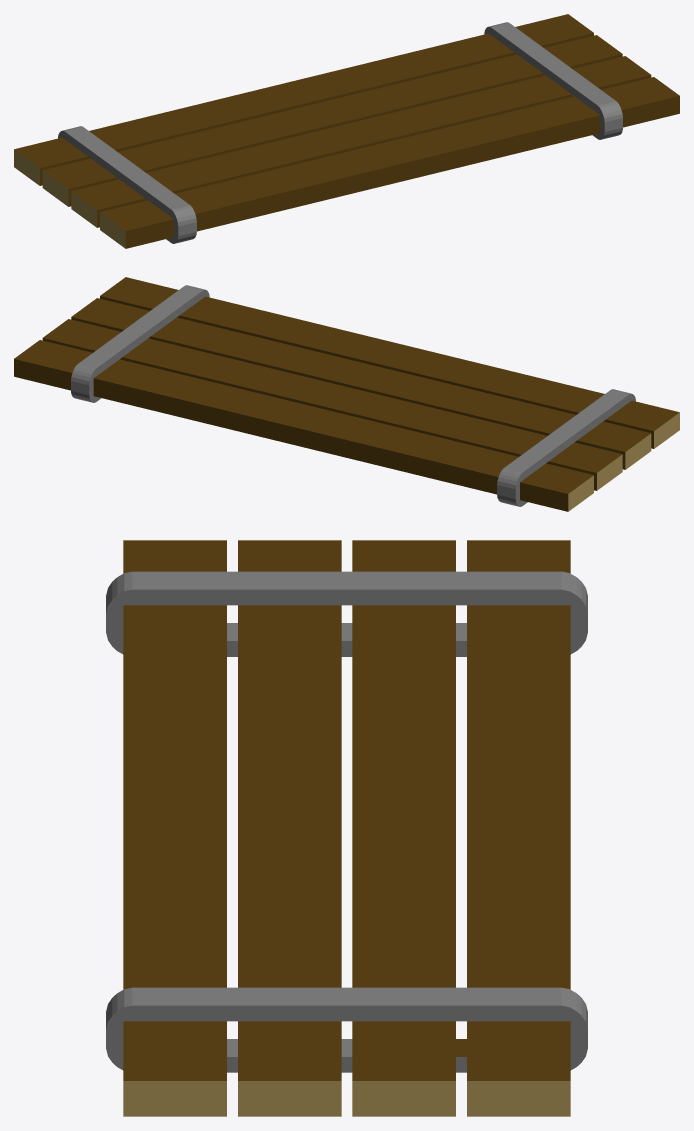
Rendered from cheerleader_support.fbx.
The picture shows the model from 3 angles, top to bottom: view 1: azimuth 30°, elevation 25°; view 2: azimuth 150°, elevation 25°; view 3: azimuth 270°, elevation 25°; orthographic projection. The views are drawn at different scales.
Parts seen in each view (by area): view 1: CheerLeaderSupport; view 2: CheerLeaderSupport; view 3: CheerLeaderSupport.
Boxes of the visible parts, left/top/right/bottom form: CheerLeaderSupport: left=14, top=14, right=679, bottom=248; CheerLeaderSupport: left=14, top=277, right=679, bottom=511; CheerLeaderSupport: left=106, top=540, right=587, bottom=1116.
Bounding box in the file's own units: 59.11 × 3.42 × 22.24.
